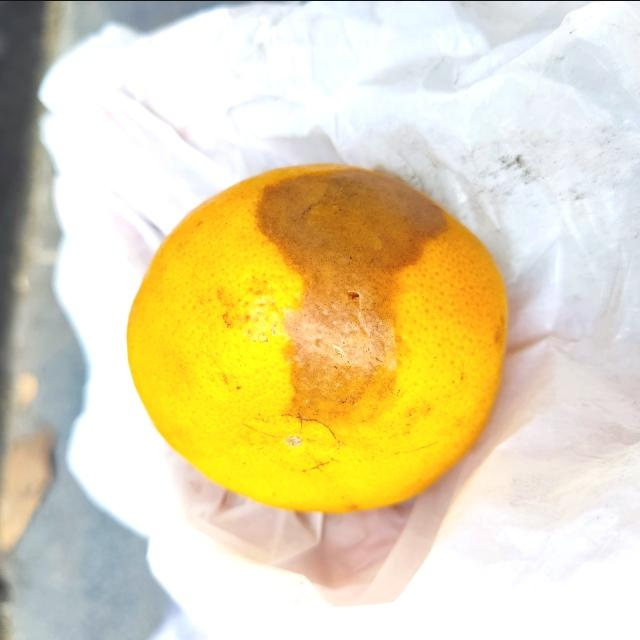agrume: (126, 159, 510, 516)
